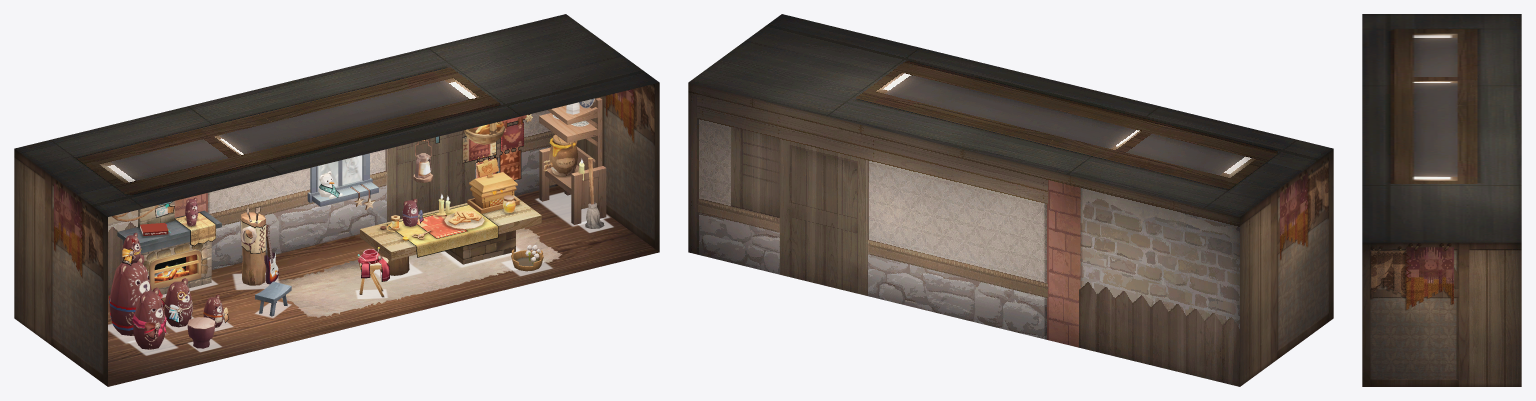
Rendered from ursusRoom.glb.
3 renders of one model, left to right at view 1: azimuth 30°, elevation 25°; view 2: azimuth 150°, elevation 25°; view 3: azimuth 270°, elevation 25°, orthographic. The views are drawn at different scales.
Visible parts, largest first — view 1: ROOM_room, ROOM_floor, furni_ursusRoom_carpet_01, furni_ursusRoom_cabinet_02.001, furni_ursusRoom_table_01, furni_ursusRoom_woodcarving_01, furni_ursusRoom_fireplace_01, furni_ursusRoom_table_03, furni_ursusRoom_hangcarpet_04, furni_ursusRoom_window_01, furni_ursusRoom_woodstake_01, ROOM_LDoor (+11 smaller); view 2: ROOM_room, ROOM_LDoor; view 3: ROOM_room, ROOM_RDoor.
Part boxes in pixels (box(x1,y1,x2,y2)): ROOM_room: box(14, 14, 659, 386); ROOM_floor: box(108, 185, 659, 386); furni_ursusRoom_carpet_01: box(276, 228, 561, 317); furni_ursusRoom_cabinet_02.001: box(539, 98, 606, 228); furni_ursusRoom_table_01: box(360, 159, 541, 275); furni_ursusRoom_woodcarving_01: box(109, 232, 223, 349); furni_ursusRoom_fireplace_01: box(117, 197, 221, 294); furni_ursusRoom_table_03: box(387, 194, 498, 257); furni_ursusRoom_hangcarpet_04: box(462, 114, 529, 180); furni_ursusRoom_window_01: box(307, 153, 378, 210); furni_ursusRoom_woodstake_01: box(241, 212, 278, 285); ROOM_LDoor: box(75, 286, 94, 376); ROOM_room: box(688, 14, 1333, 386); ROOM_LDoor: box(1300, 251, 1319, 341); ROOM_room: box(1362, 14, 1521, 386); ROOM_RDoor: box(1385, 321, 1418, 386).
Size of the model in its own units: 7.48 by 2.2 by 2.2.
Materials: 7 (7 with a texture image).
